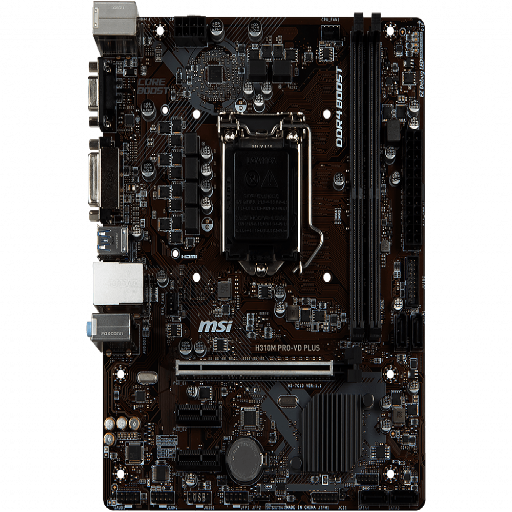CPU: (218, 112, 311, 273)
GPU: (174, 355, 359, 381)
MOTHERBOARD: (86, 2, 428, 512)
RAM: (345, 12, 386, 340)
